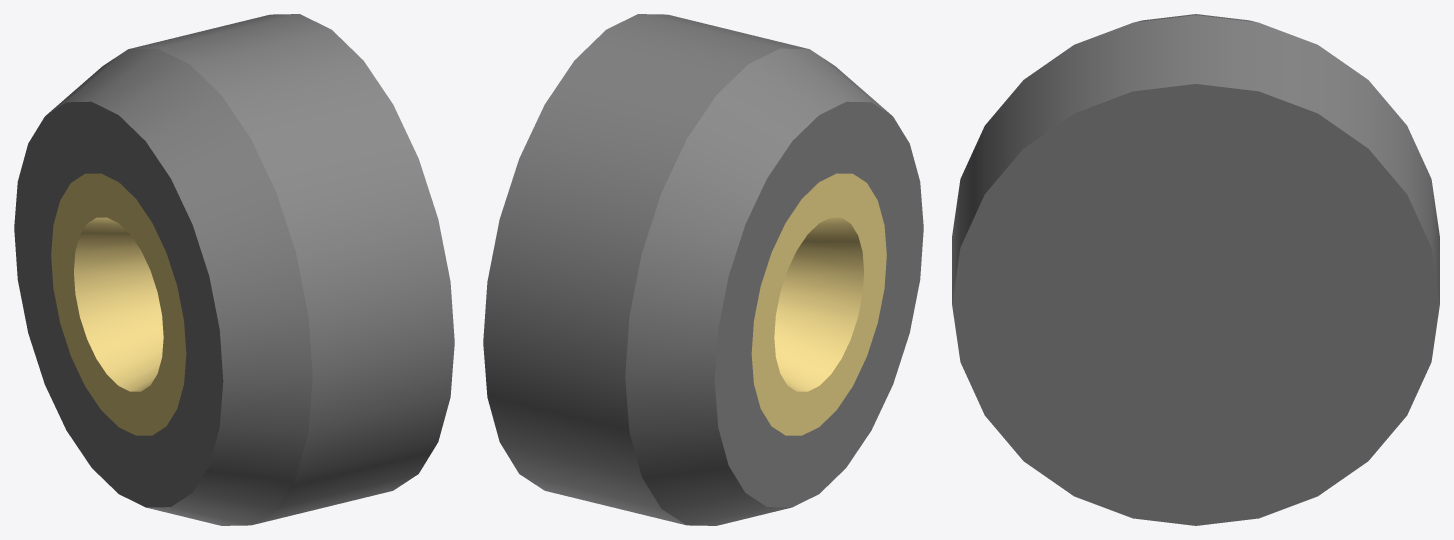
Rendered from wheelTractorFront.glb.
3 views of the same model, side by side, from view 1: azimuth 30°, elevation 25°; view 2: azimuth 150°, elevation 25°; view 3: azimuth 270°, elevation 25° (orthographic).
Parts seen in each view (by area): view 1: wheelTractorFront; view 2: wheelTractorFront; view 3: wheelTractorFront.
Boxes of the visible parts, <box> form: wheelTractorFront: <box>14,14,454,525</box>; wheelTractorFront: <box>483,14,923,525</box>; wheelTractorFront: <box>952,14,1439,525</box>.
Size of the model in its own units: 0.2693 by 0.5386 by 0.5386.
